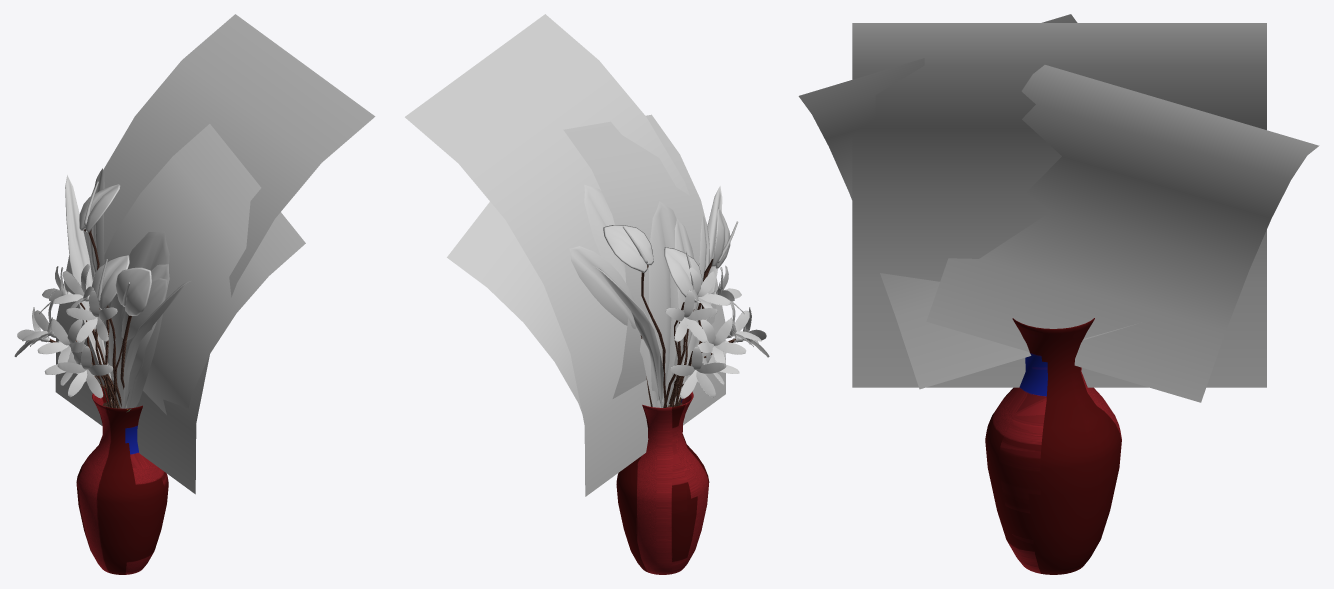
The model's file is vase.fbx.
The picture shows the model from 3 angles, left to right: view 1: azimuth 30°, elevation 25°; view 2: azimuth 150°, elevation 25°; view 3: azimuth 270°, elevation 25°; orthographic projection. The views are drawn at different scales.
Visible parts, largest first — view 1: VASE.011, VASE.013, VASE.009, VASE.021, VASE.017, VASE.010, VASE.023, VASE.016, VASE.007, VASE.005, VASE.018, VASE.015 (+6 smaller); view 2: VASE.011, VASE.009, VASE.013, VASE.012, VASE.021, VASE.022, VASE.014, VASE.020, VASE.017, VASE.010, VASE.003, VASE.001 (+8 smaller); view 3: VASE.011, VASE.012, VASE.009, VASE.013.
Boxes of the visible parts, <box> form: VASE.011: <box>55,14,375,494</box>; VASE.013: <box>88,124,305,414</box>; VASE.009: <box>76,385,168,574</box>; VASE.021: <box>108,231,169,408</box>; VASE.017: <box>65,175,116,407</box>; VASE.010: <box>49,229,131,408</box>; VASE.023: <box>115,264,169,408</box>; VASE.016: <box>115,267,151,315</box>; VASE.007: <box>57,346,113,398</box>; VASE.005: <box>66,290,117,342</box>; VASE.018: <box>120,281,190,408</box>; VASE.015: <box>91,255,129,309</box>; VASE.011: <box>405,14,725,496</box>; VASE.009: <box>616,391,709,574</box>; VASE.013: <box>563,114,716,398</box>; VASE.012: <box>447,202,582,413</box>; VASE.021: <box>649,201,679,406</box>; VASE.022: <box>569,246,636,328</box>; VASE.014: <box>584,185,663,407</box>; VASE.020: <box>603,225,653,273</box>; VASE.017: <box>592,266,663,407</box>; VASE.010: <box>640,259,735,407</box>; VASE.003: <box>670,346,726,398</box>; VASE.001: <box>665,290,717,342</box>; VASE.011: <box>852,23,1266,387</box>; VASE.012: <box>926,65,1319,402</box>; VASE.009: <box>985,318,1121,574</box>; VASE.013: <box>798,14,1135,389</box>.
Bounding box in the file's own units: 126 × 201 × 141.
